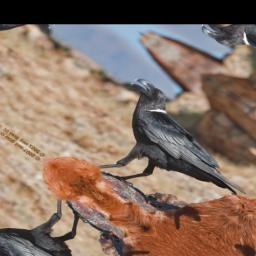Crow: (57, 73, 256, 237)
